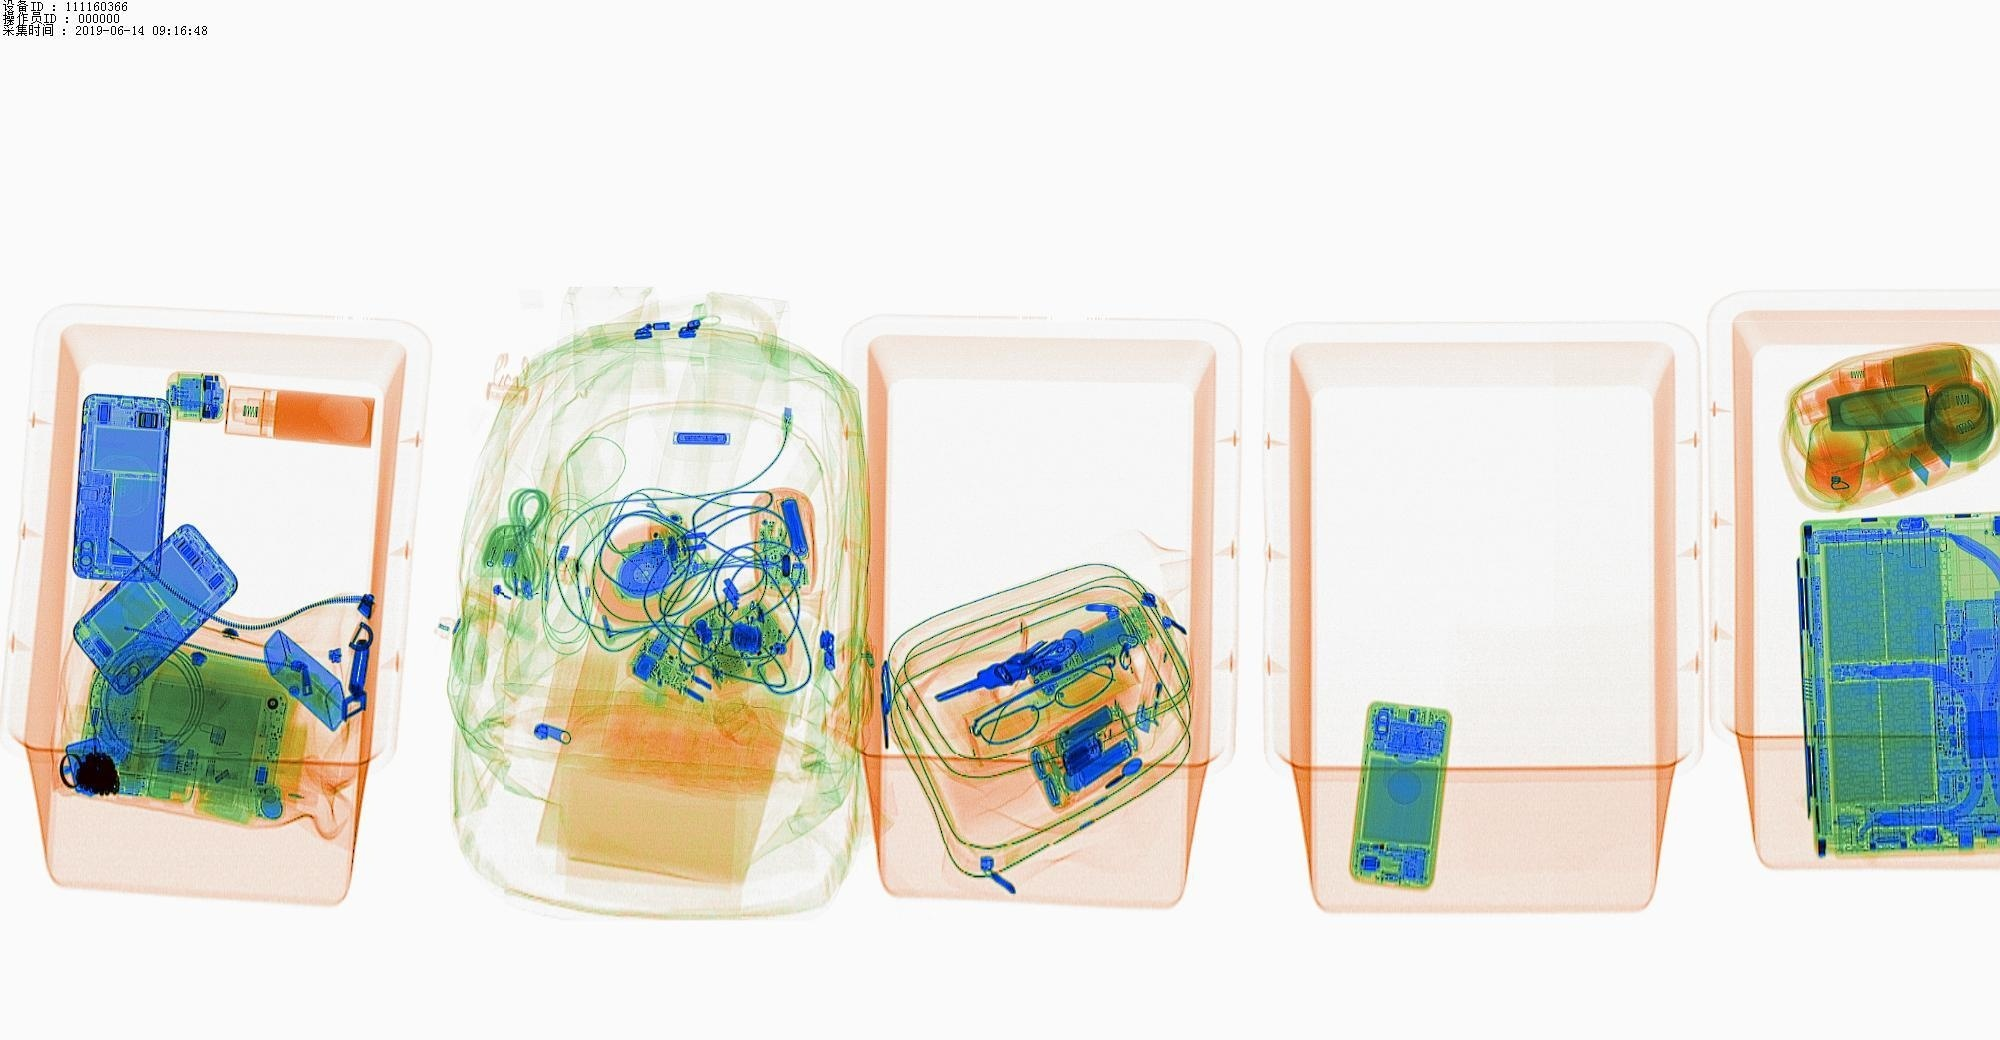NonmetallicFire: (1124, 643, 1177, 741)
